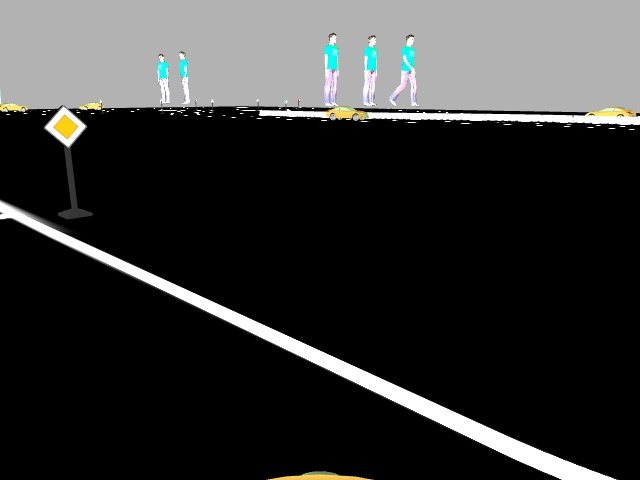Priority: (44, 104, 84, 147)
